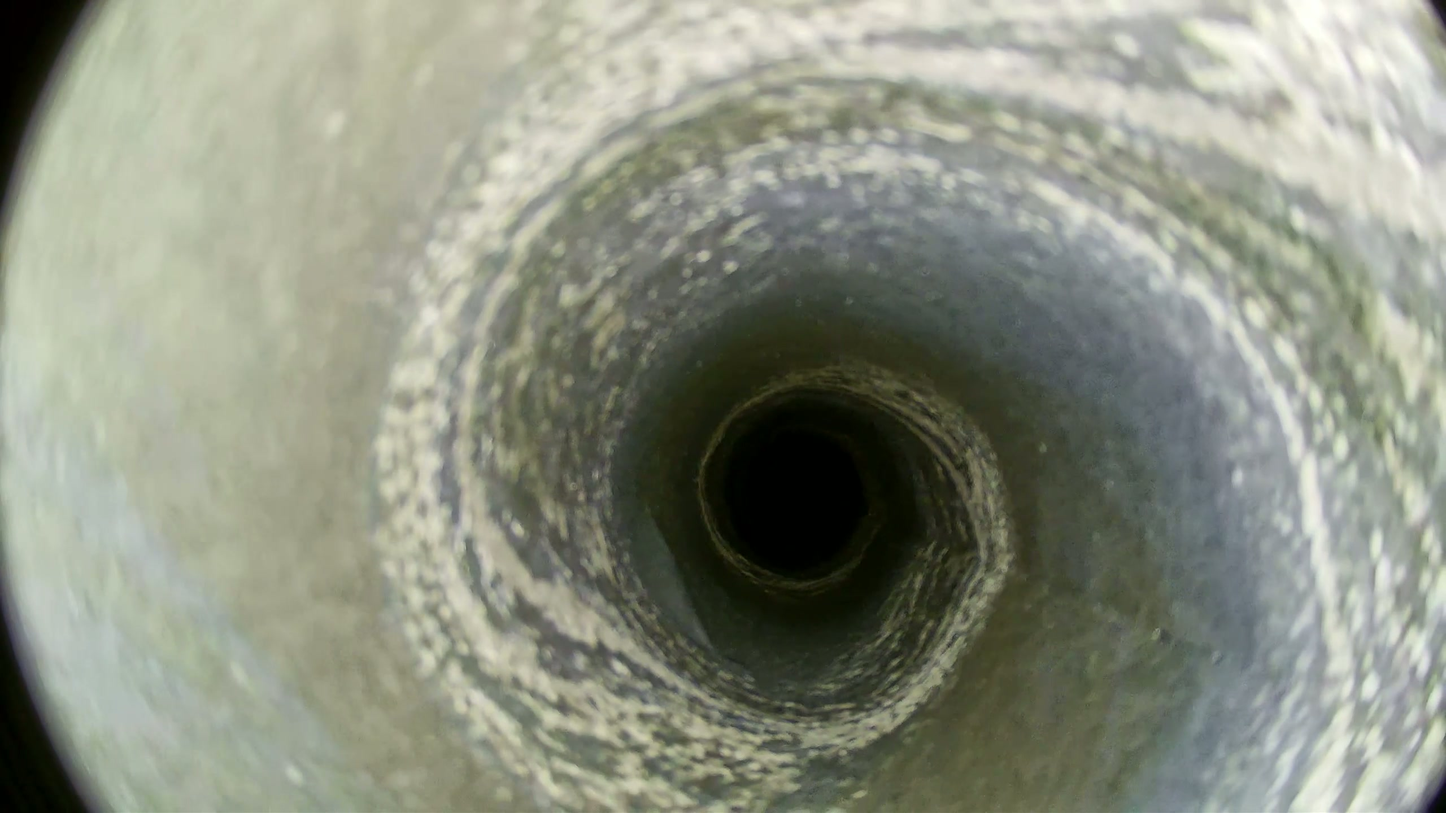hole: (745, 432, 862, 550)
